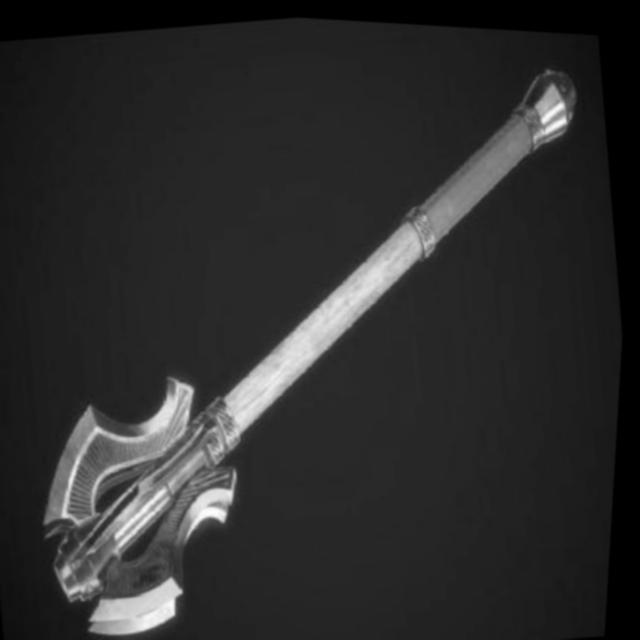weapon: (0, 33, 638, 640)
